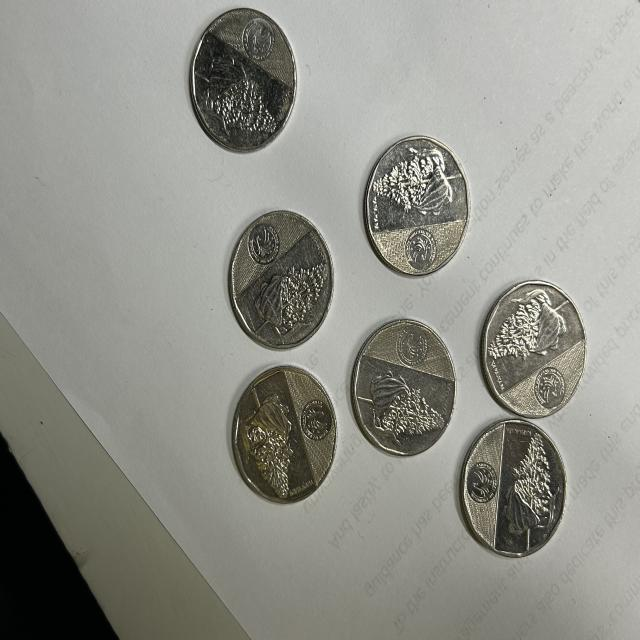10_New_Back: (484, 284, 576, 372), (235, 246, 324, 334), (359, 357, 440, 453), (241, 386, 305, 503), (368, 143, 456, 226), (194, 45, 272, 138), (510, 428, 563, 540)
